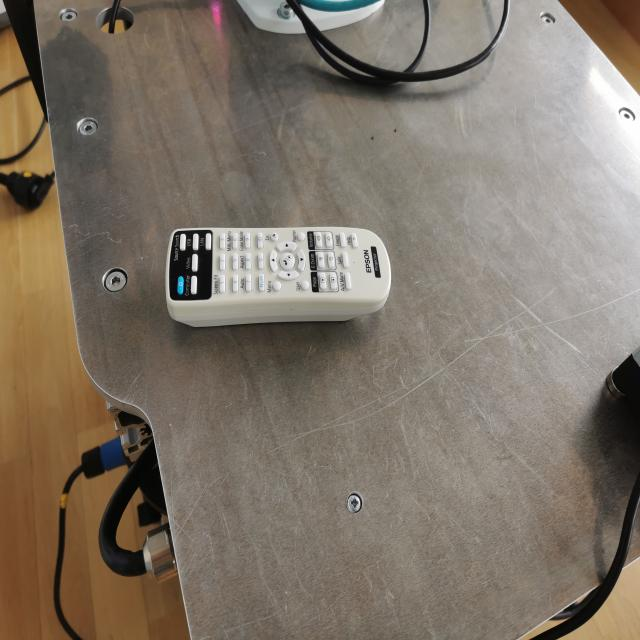remote: (160, 221, 395, 326)
